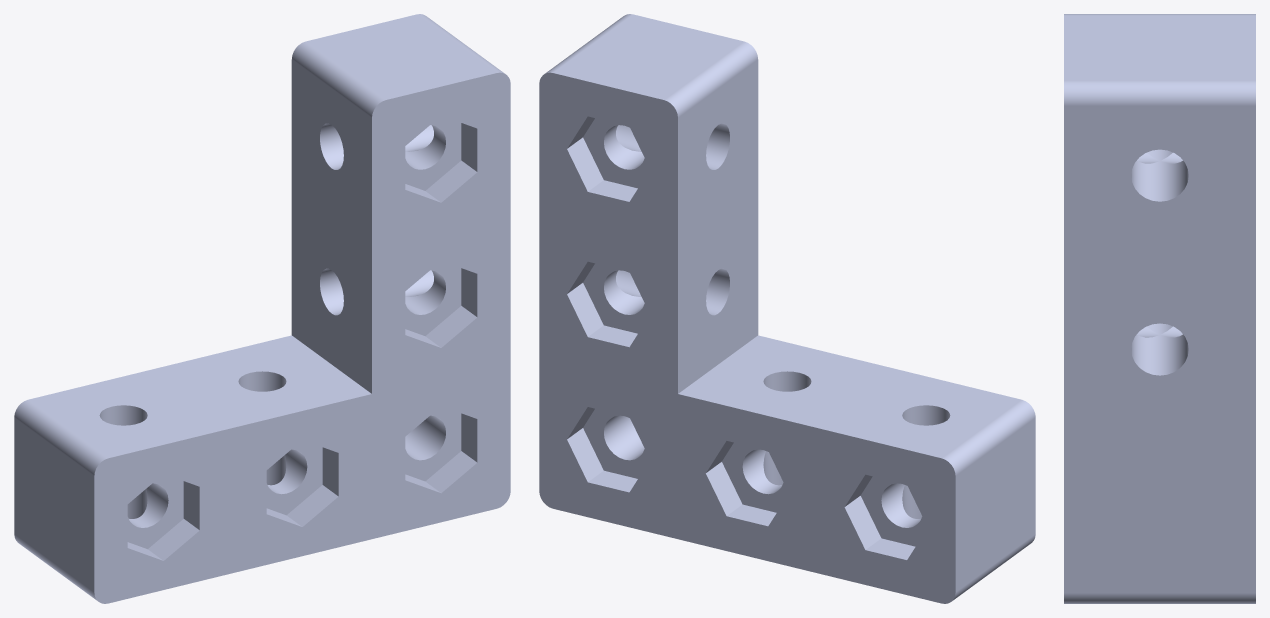
3 renders of one model, left to right at view 1: azimuth 30°, elevation 25°; view 2: azimuth 150°, elevation 25°; view 3: azimuth 270°, elevation 25°, orthographic. The views are drawn at different scales.
Visible parts, largest first — view 1: L5N; view 2: L5N; view 3: L5N.
Part boxes in pixels (x1,y1,x2,y2): L5N: (14,14,510,603); L5N: (539,14,1035,603); L5N: (1064,14,1255,603).
Bounding box in the file's own units: 0.03 × 0.03 × 0.01.
